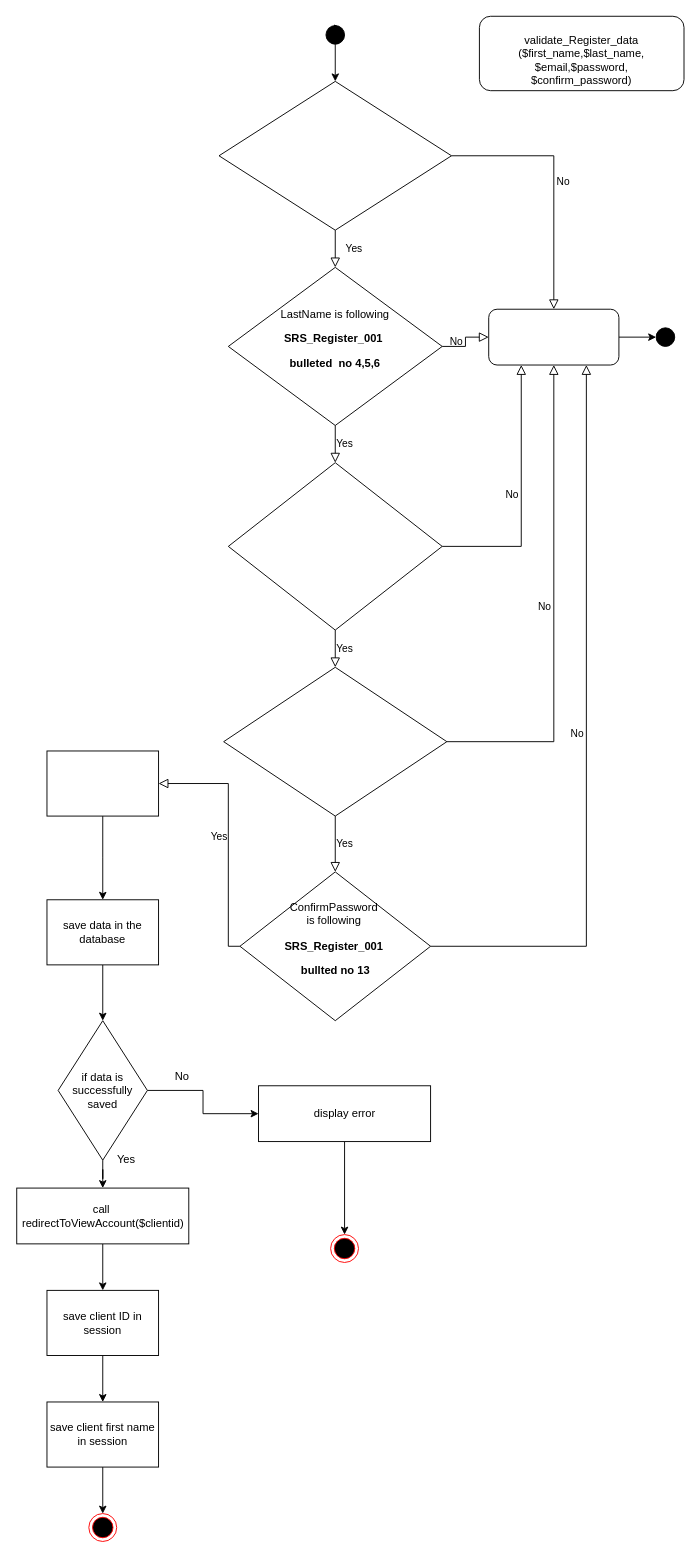
Image size: 700x1558. Some labels were removed from this diagram. Each missing label, with the centre of its shape:
Email is following SRS_Register_001 bulleted no 7,8: point 334,546
First Name is following SRS_Register_001 bulleted no 1,2,3: point 335,155
Paasword is following SRS_Register_001 bulleted no 9,10,11,12: point 335,741
show an alert "invalid data": point 553,336
The password is hashed: point 102,783
